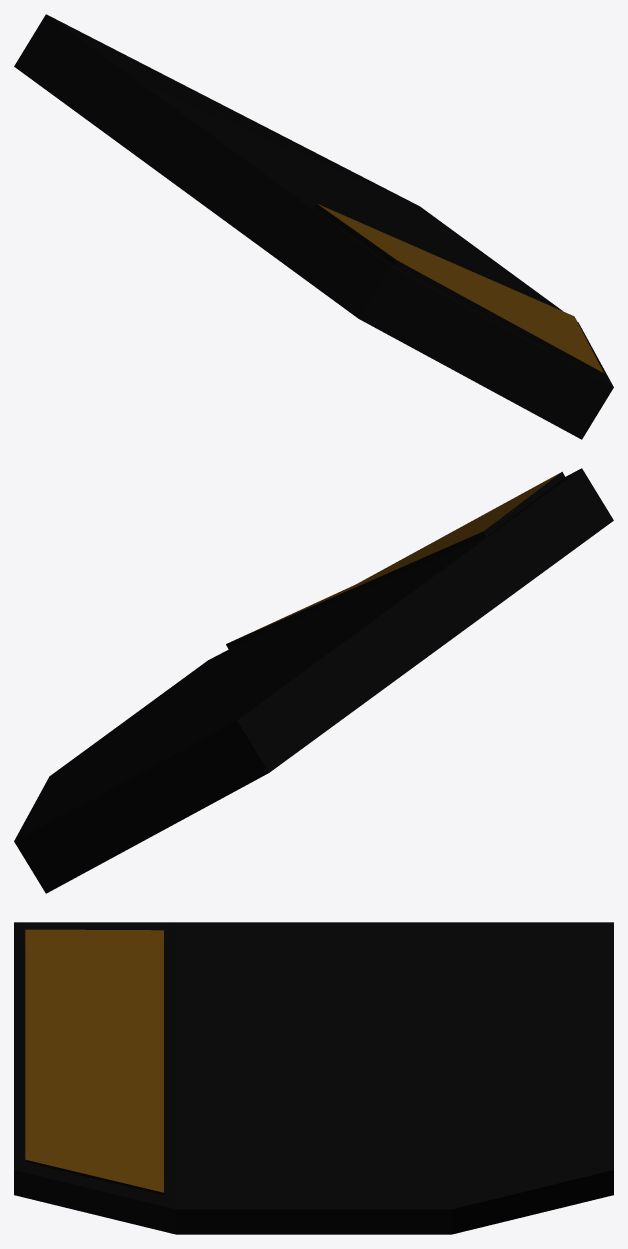
File: E-2_FinR_Part_Wipeout.fbx
3 views of the same model, one above another, from view 1: azimuth 30°, elevation 25°; view 2: azimuth 150°, elevation 25°; view 3: azimuth 270°, elevation 25° (orthographic). The views are drawn at different scales.
Visible parts, largest first — view 1: E-2_FinR_Ship; view 2: E-2_FinR_Ship; view 3: E-2_FinR_Ship.
Boxes of the visible parts, x1,y1,x2,y2 form: E-2_FinR_Ship: [14, 14, 613, 439]; E-2_FinR_Ship: [14, 468, 613, 893]; E-2_FinR_Ship: [14, 922, 613, 1234].
Bounding box in the file's own units: 224 × 428 × 162.
